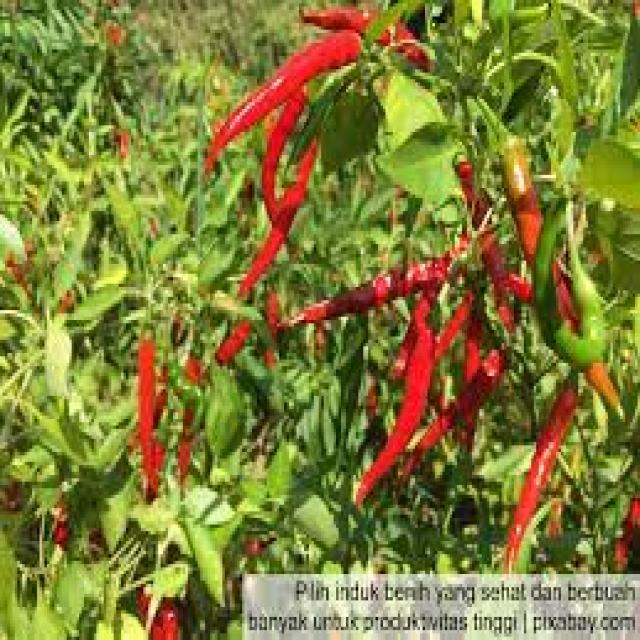healthy: (0, 0, 640, 538)
